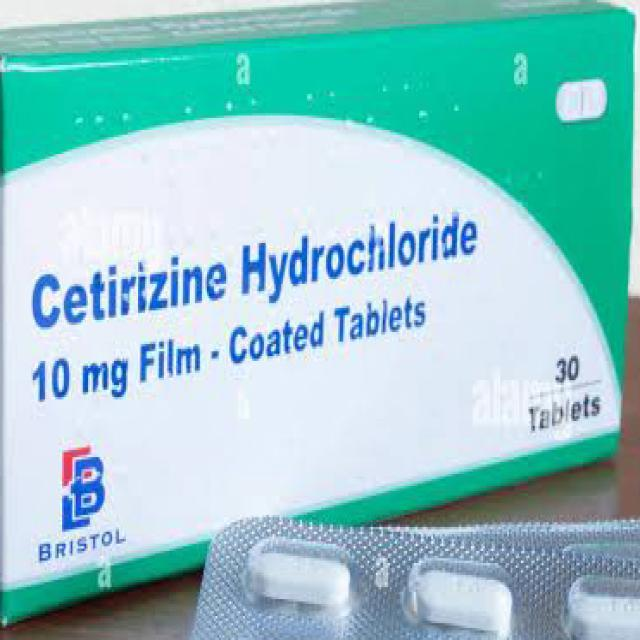drug-name: (24, 441, 126, 562)
